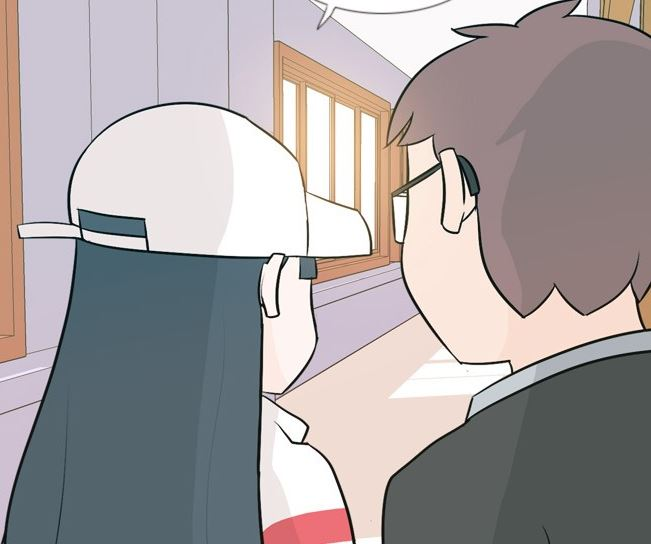hat: (68, 101, 374, 258)
